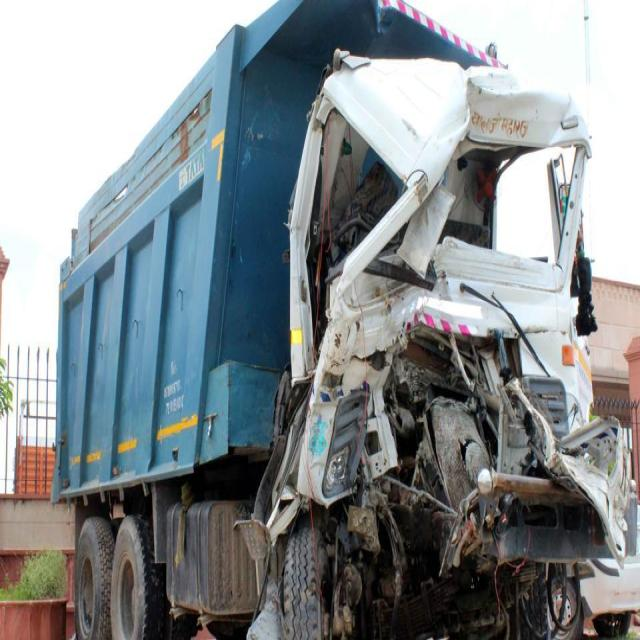accident: (52, 0, 631, 638)
